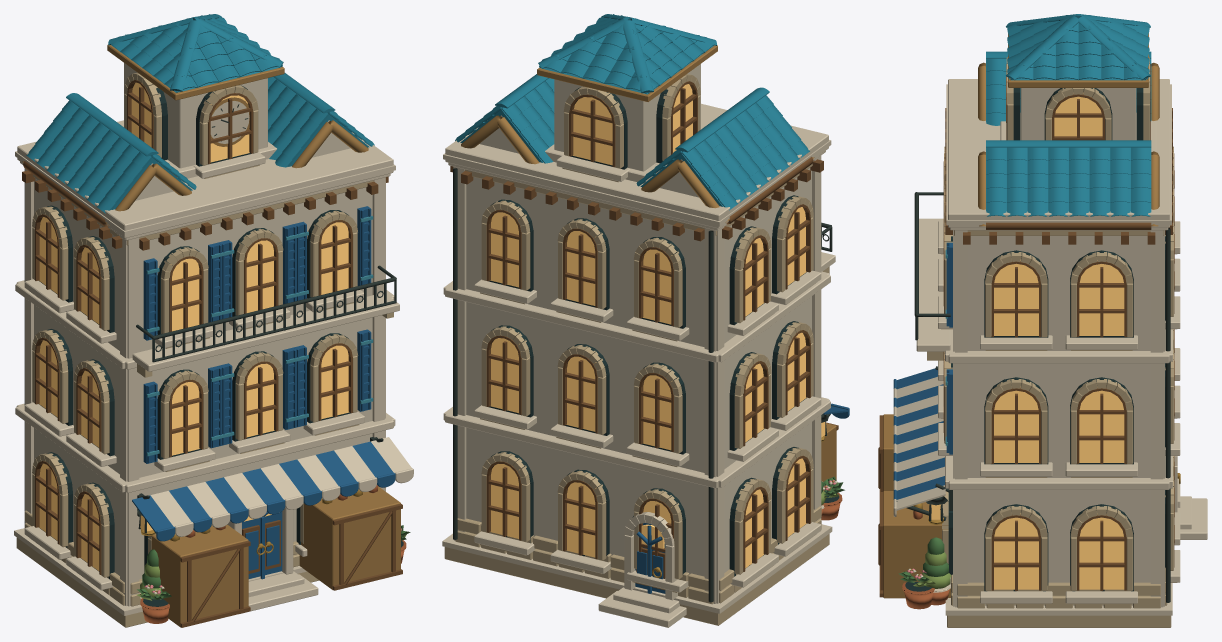
3 views of the same model, side by side, from view 1: azimuth 30°, elevation 25°; view 2: azimuth 150°, elevation 25°; view 3: azimuth 270°, elevation 25° (orthographic). The views are drawn at different scales.
Visible parts, largest first — view 1: harbor_shop_3_geometry, harbor_shop_3_geometry ceramic; view 2: harbor_shop_3_geometry, harbor_shop_3_geometry ceramic; view 3: harbor_shop_3_geometry, harbor_shop_3_geometry ceramic.
Part boxes in pixels (<box>): harbor_shop_3_geometry: <box>14,45,413,627</box>; harbor_shop_3_geometry ceramic: <box>26,14,374,456</box>; harbor_shop_3_geometry: <box>442,45,849,627</box>; harbor_shop_3_geometry ceramic: <box>455,14,809,210</box>; harbor_shop_3_geometry: <box>878,33,1207,627</box>; harbor_shop_3_geometry ceramic: <box>945,14,1151,445</box>.
Bounding box in the file's own units: 0.99 × 1.76 × 0.9609.
